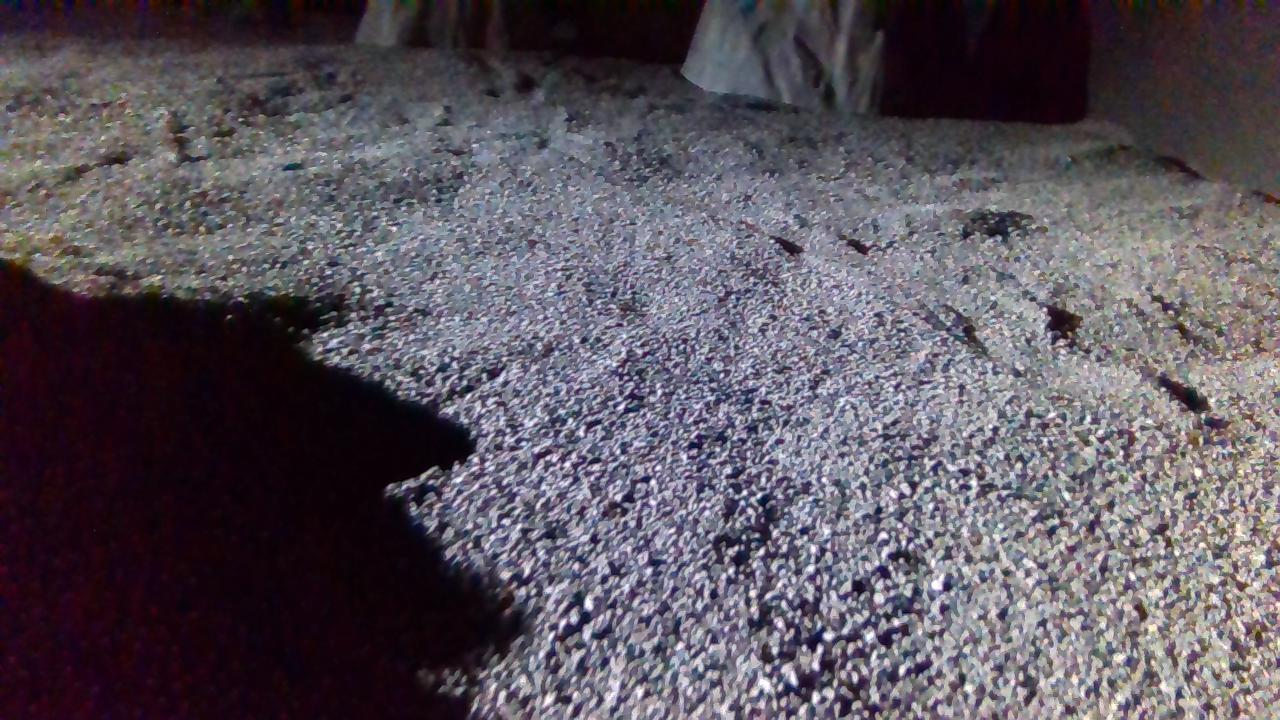rock: (683, 0, 886, 112), (356, 0, 508, 47)
